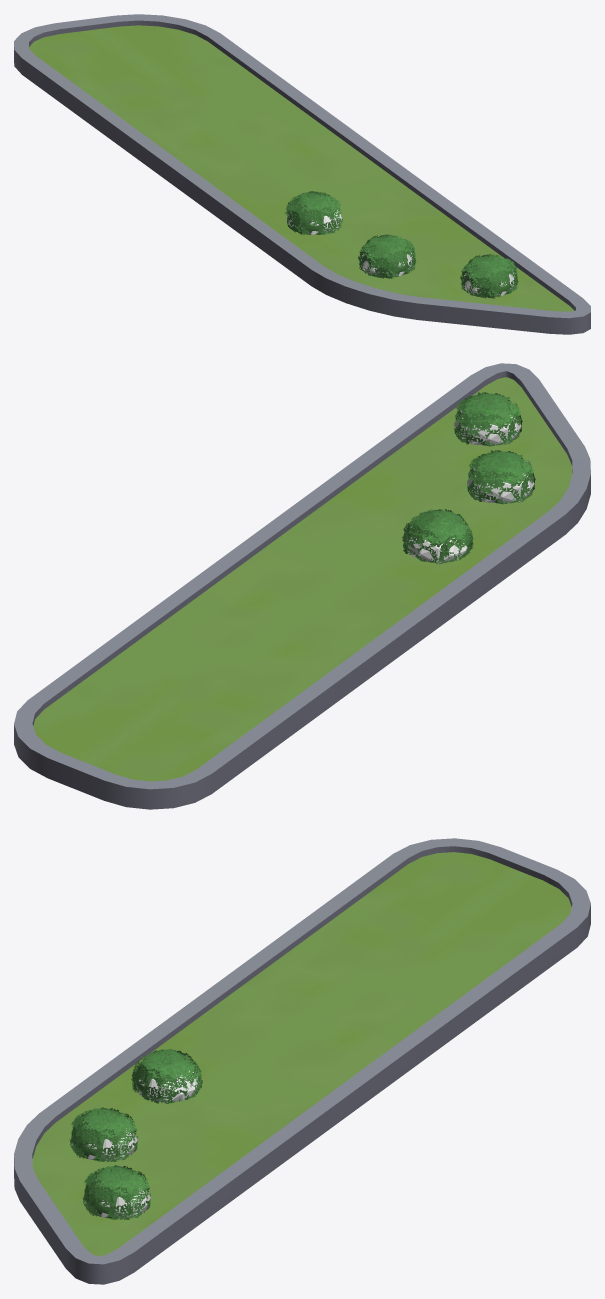
File: Platform 2.fbx
The picture shows the model from 3 angles, top to bottom: view 1: azimuth 30°, elevation 25°; view 2: azimuth 150°, elevation 25°; view 3: azimuth 330°, elevation 25°; orthographic projection. The views are drawn at different scales.
Parts seen in each view (by area): view 1: Plane_006, Bush_V2, Bush_V2_2, Bush_V2_1; view 2: Plane_006, Bush_V2, Bush_V2_2, Bush_V2_1, Capsule_2, Capsule_1, Capsule; view 3: Plane_006, Bush_V2_1, Bush_V2_2, Bush_V2, Capsule.
Part boxes in pixels (left/top/right/bottom): Plane_006: left=14, top=14, right=590, bottom=334; Bush_V2: left=284, top=191, right=342, bottom=235; Bush_V2_2: left=358, top=234, right=416, bottom=278; Bush_V2_1: left=460, top=254, right=518, bottom=298; Plane_006: left=14, top=363, right=590, bottom=809; Bush_V2: left=402, top=509, right=473, bottom=564; Bush_V2_2: left=467, top=450, right=535, bottom=504; Bush_V2_1: left=454, top=392, right=522, bottom=446; Capsule_2: left=467, top=468, right=533, bottom=503; Capsule_1: left=454, top=410, right=520, bottom=445; Capsule: left=405, top=527, right=467, bottom=563; Plane_006: left=14, top=838, right=590, bottom=1284; Bush_V2_1: left=82, top=1165, right=150, bottom=1219; Bush_V2_2: left=69, top=1107, right=137, bottom=1161; Bush_V2: left=131, top=1048, right=202, bottom=1103; Capsule: left=135, top=1071, right=197, bottom=1102.
Size of the model in its own units: 287 by 70.75 by 1232.
